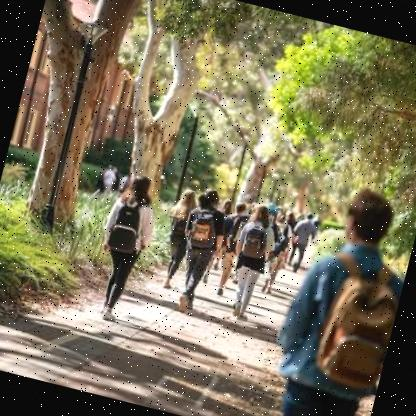person: (250, 170, 416, 416), (76, 166, 172, 334), (164, 180, 240, 324), (220, 200, 288, 330)
